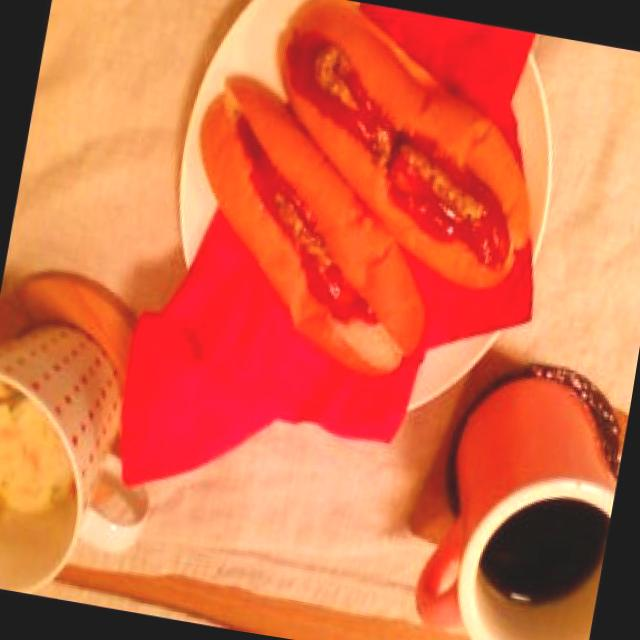Hot Dog: (226, 0, 561, 295), (166, 69, 460, 392)
